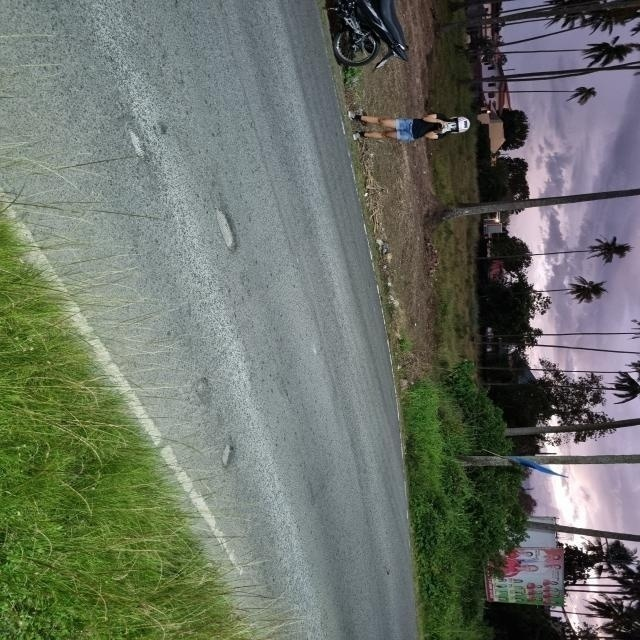pothole: (190, 196, 276, 280), (88, 102, 176, 168), (190, 414, 273, 481)
